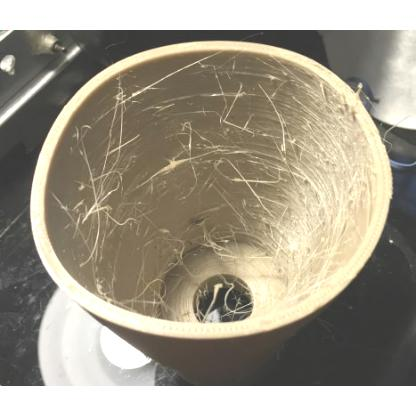fail: (68, 88, 356, 252)
